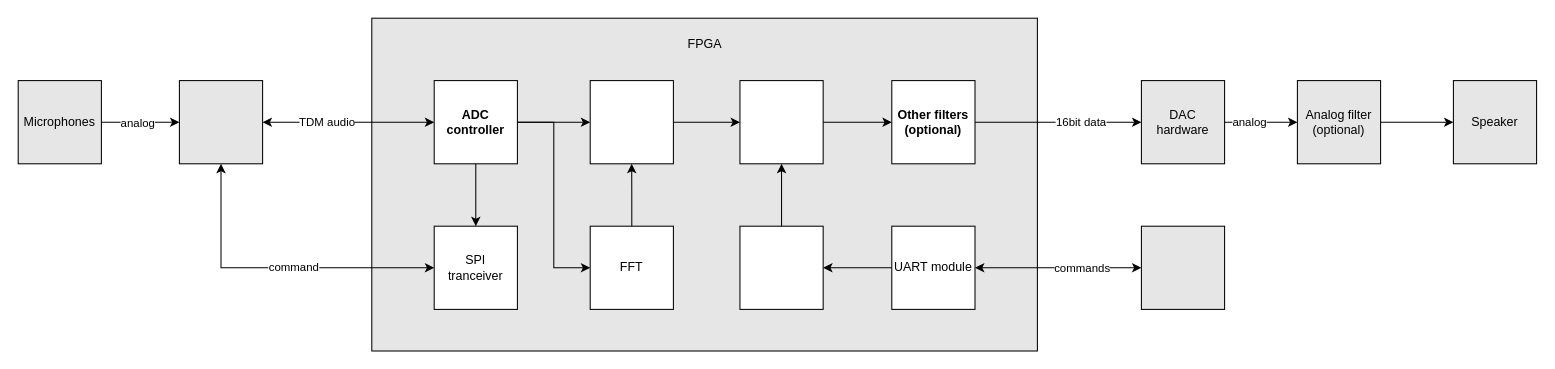
This 1555x369 diagram has some shape labels left out. The shapes that lost their labels are listed below. From the top down, each one's centre as x and y in pixels, then its label:
At pixel 220 122: "ADC hardware".
At pixel 631 122: "Channel selector".
At pixel 781 122: "Config filter".
At pixel 781 267: "Filter controller".
At pixel 1182 267: "PC".
